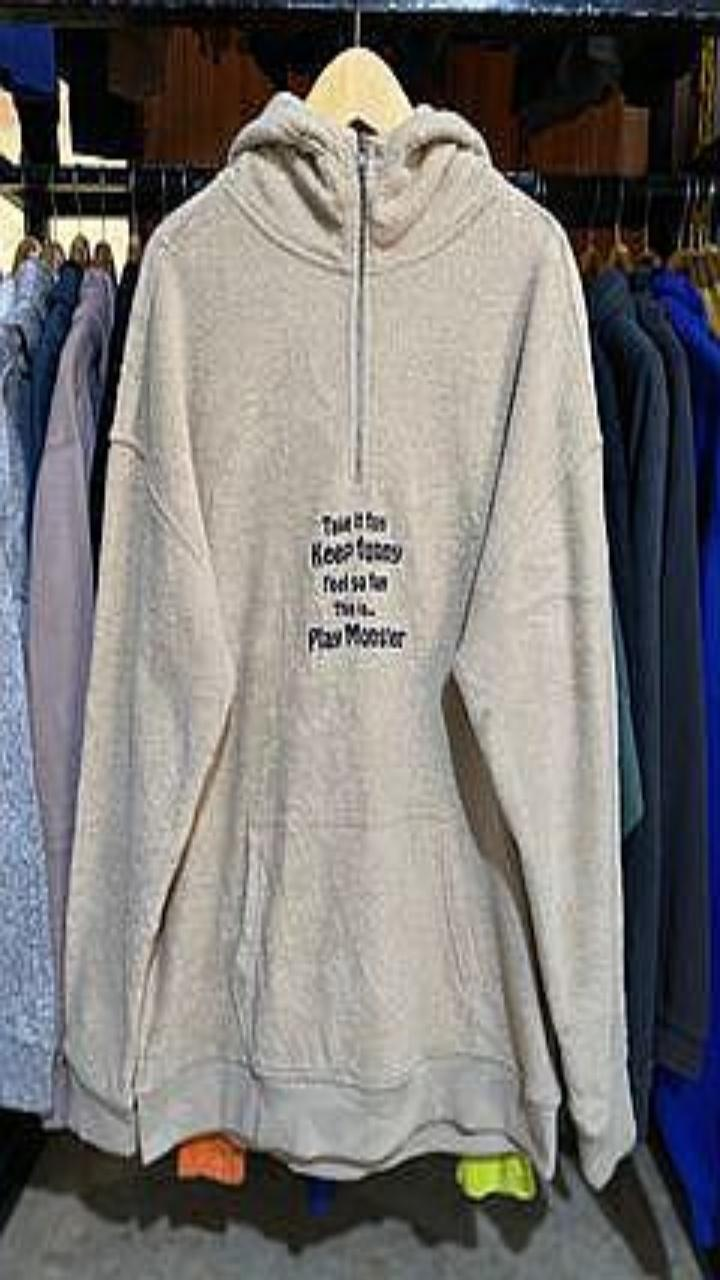Hoodie: (66, 95, 633, 1184)
